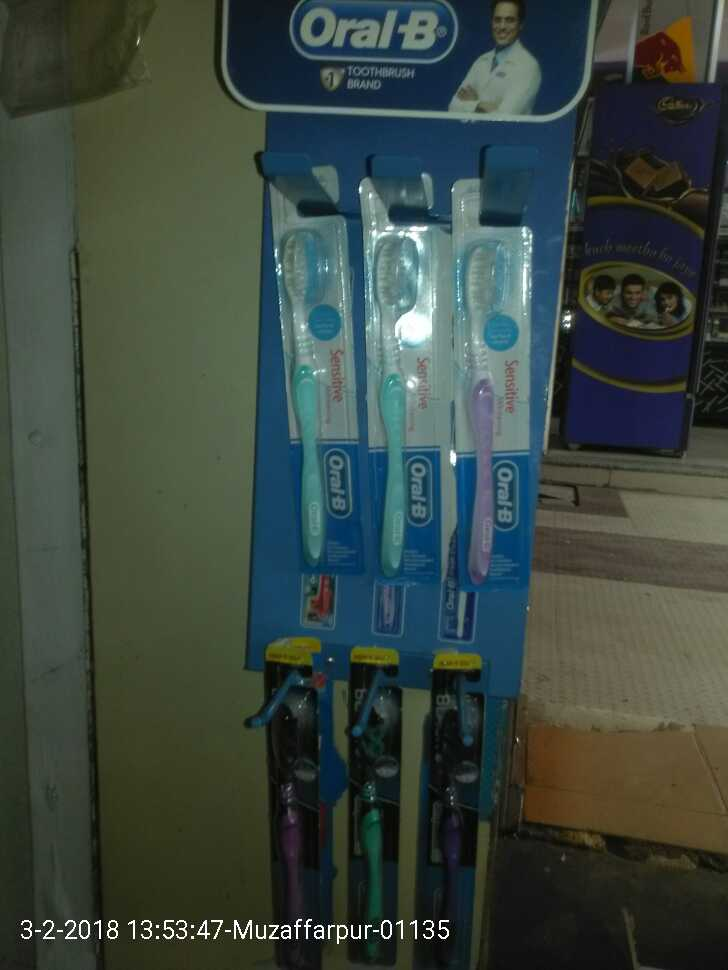oralb: (446, 193, 523, 581), (266, 198, 343, 558), (359, 187, 428, 580)
